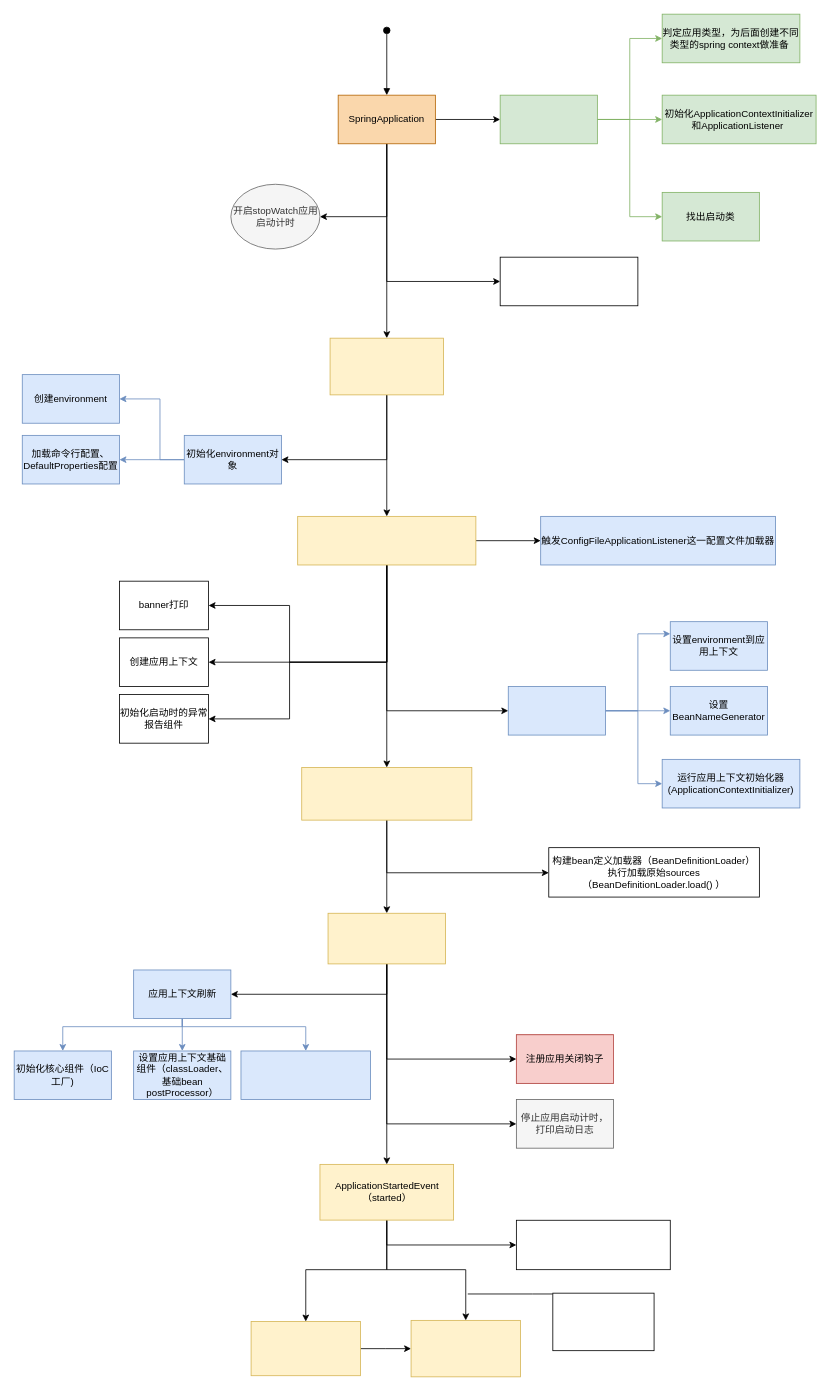
This 830x1392 diagram has some shape labels left out. The shapes that lost their labels are listed below. From the top down, each one's centre as x and y in pixels, then its label:
At point 548,119: "初始化".
At point 568,281: "找出spring.factories中的SpringApplicationRunListener".
At point 386,366: "ApplicationStartingEvent".
At point 386,540: "ApplicationEnvironmentPreparedEvent".
At point 556,710: "prepareContext".
At point 386,793: "ApplicationContextInitializedEvent（contextPrepared）".
At point 386,938: "ApplicationPreparedEvent（contextLoaded）".
At point 305,1075: "执行和初始化各大组件，如beanFactoryPostProcessor、beanPostProcessor、加载应用声明的（非懒惰）bean".
At point 593,1244: "自定义处理传入的程序参数（执行ApplicationRunner、CommandLineRunner ）".
At point 603,1321: "一些错误处理，及异常报告打印".
At point 305,1348: "ApplicationReadyEvent（running）".
At point 465,1348: "ApplicationFailedEvent（failed）".
